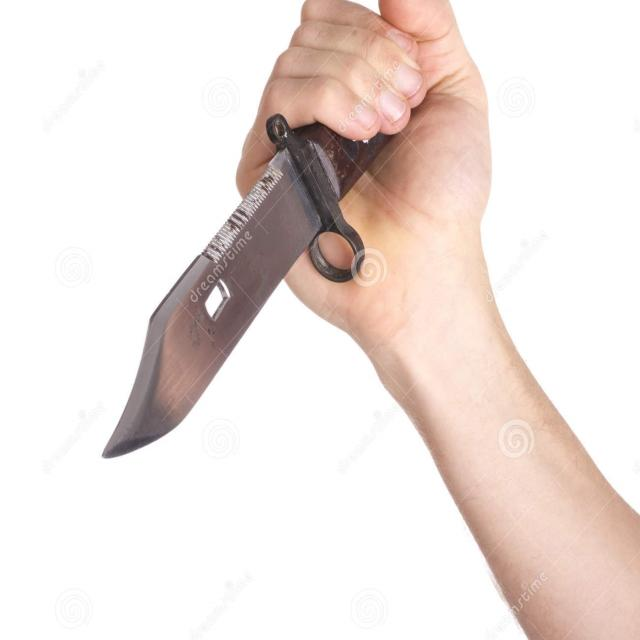knife: (94, 135, 328, 466)
